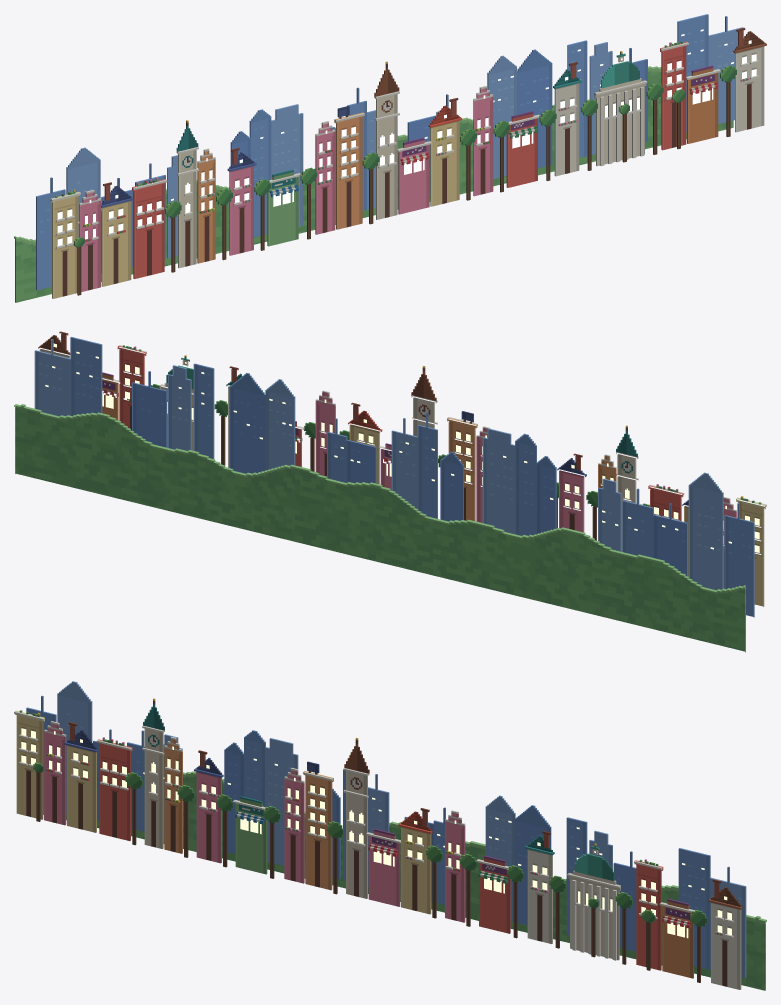
The model's file is backdrop_voxel_city.glb.
3 renders of one model, top to bottom at view 1: azimuth 30°, elevation 25°; view 2: azimuth 150°, elevation 25°; view 3: azimuth 330°, elevation 25°, orthographic.
Visible parts, largest first — view 1: City.001, Windows; view 2: City.001, Windows; view 3: City.001, Windows.
Boxes of the visible parts, left/top/right/bottom form: City.001: left=14, top=14, right=766, bottom=302; Windows: left=57, top=29, right=756, bottom=245; City.001: left=14, top=331, right=766, bottom=652; Windows: left=45, top=343, right=759, bottom=552; City.001: left=14, top=681, right=766, bottom=990; Windows: left=21, top=728, right=731, bottom=938.
Size of the model in its own units: 90.6 by 21.2 by 7.
